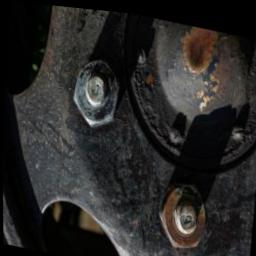Corroded-Nut-and-Bolt: (158, 175, 206, 243)
Non-Corroded-Nut-and-Bolt: (72, 54, 122, 124)
